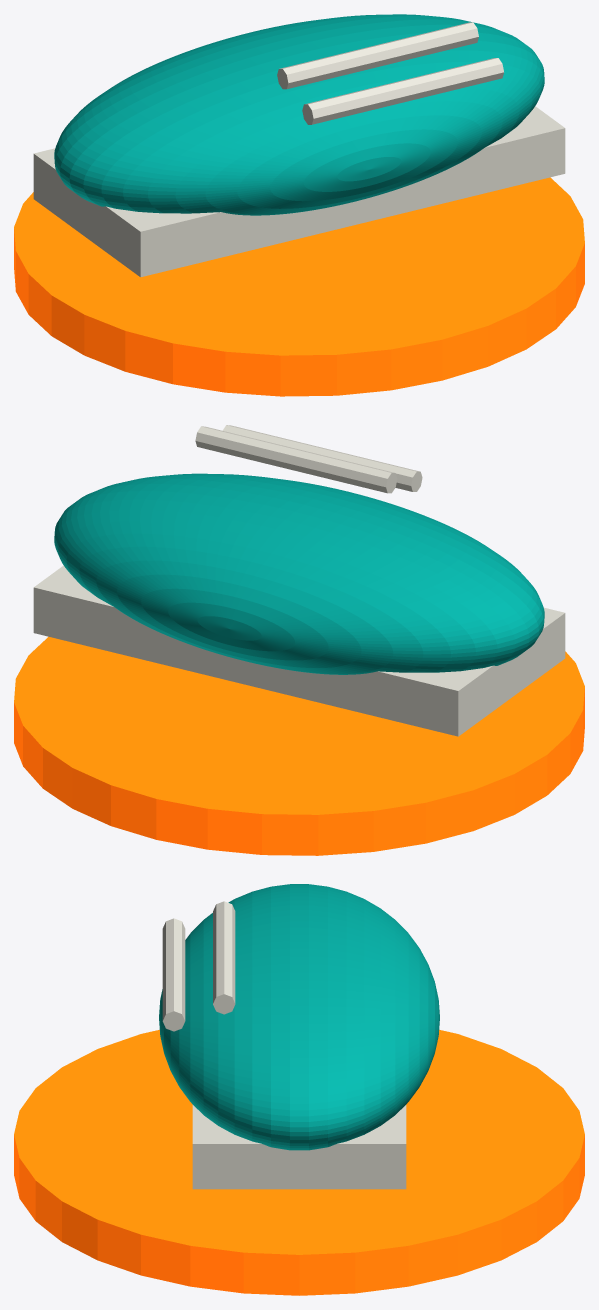
The model's file is fitness_running_shoe.dae.
3 views of the same model, one above another, from view 1: azimuth 30°, elevation 25°; view 2: azimuth 150°, elevation 25°; view 3: azimuth 270°, elevation 25° (orthographic).
Visible parts, largest first — view 1: 02_04_Popular_Fitness_Running_Shoe_ROOT_base, 02_04_Popular_Fitness_Running_Shoe_part_01, 02_04_Popular_Fitness_Running_Shoe_part_02, 02_04_Popular_Fitness_Running_Shoe_part_04, 02_04_Popular_Fitness_Running_Shoe_part_03; view 2: 02_04_Popular_Fitness_Running_Shoe_ROOT_base, 02_04_Popular_Fitness_Running_Shoe_part_01, 02_04_Popular_Fitness_Running_Shoe_part_02, 02_04_Popular_Fitness_Running_Shoe_part_04, 02_04_Popular_Fitness_Running_Shoe_part_03; view 3: 02_04_Popular_Fitness_Running_Shoe_ROOT_base, 02_04_Popular_Fitness_Running_Shoe_part_01, 02_04_Popular_Fitness_Running_Shoe_part_02, 02_04_Popular_Fitness_Running_Shoe_part_03, 02_04_Popular_Fitness_Running_Shoe_part_04.
Boxes of the visible parts, x1,y1,x2,y2 form: 02_04_Popular_Fitness_Running_Shoe_ROOT_base: [14, 177, 584, 396]; 02_04_Popular_Fitness_Running_Shoe_part_01: [54, 14, 544, 215]; 02_04_Popular_Fitness_Running_Shoe_part_02: [33, 106, 565, 277]; 02_04_Popular_Fitness_Running_Shoe_part_04: [277, 22, 478, 89]; 02_04_Popular_Fitness_Running_Shoe_part_03: [302, 58, 503, 124]; 02_04_Popular_Fitness_Running_Shoe_ROOT_base: [14, 636, 584, 855]; 02_04_Popular_Fitness_Running_Shoe_part_01: [54, 473, 544, 674]; 02_04_Popular_Fitness_Running_Shoe_part_02: [33, 565, 565, 736]; 02_04_Popular_Fitness_Running_Shoe_part_04: [195, 426, 397, 493]; 02_04_Popular_Fitness_Running_Shoe_part_03: [222, 425, 422, 491]; 02_04_Popular_Fitness_Running_Shoe_ROOT_base: [14, 1030, 584, 1295]; 02_04_Popular_Fitness_Running_Shoe_part_01: [159, 884, 439, 1150]; 02_04_Popular_Fitness_Running_Shoe_part_02: [192, 1105, 406, 1189]; 02_04_Popular_Fitness_Running_Shoe_part_03: [162, 918, 185, 1031]; 02_04_Popular_Fitness_Running_Shoe_part_04: [213, 901, 235, 1014].
Bounding box in the file's own units: 0.76 × 0.3633 × 0.76.
